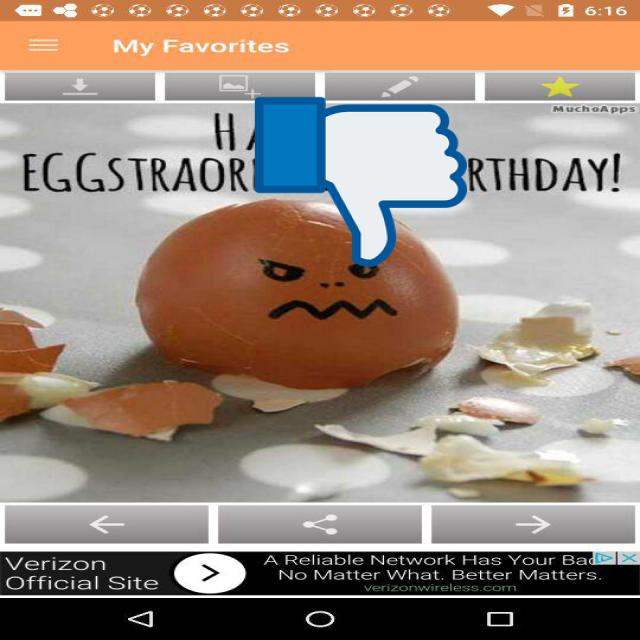obstruction: (255, 93, 467, 271)
